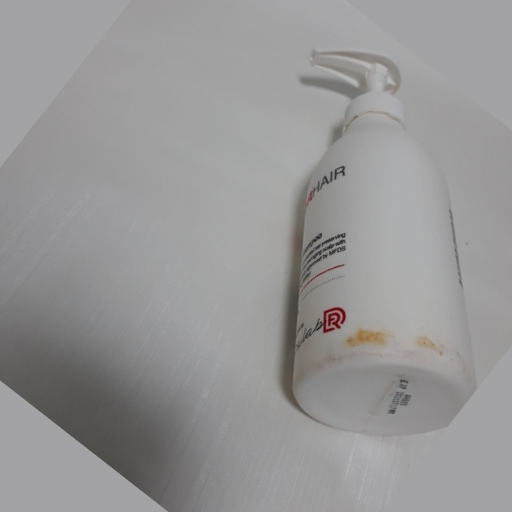Plastic_3: (288, 45, 477, 434)
